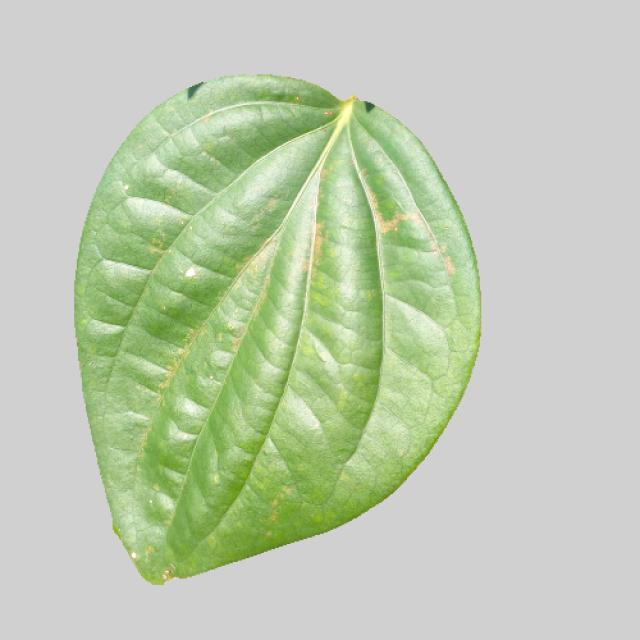healthy: (68, 68, 490, 587)
